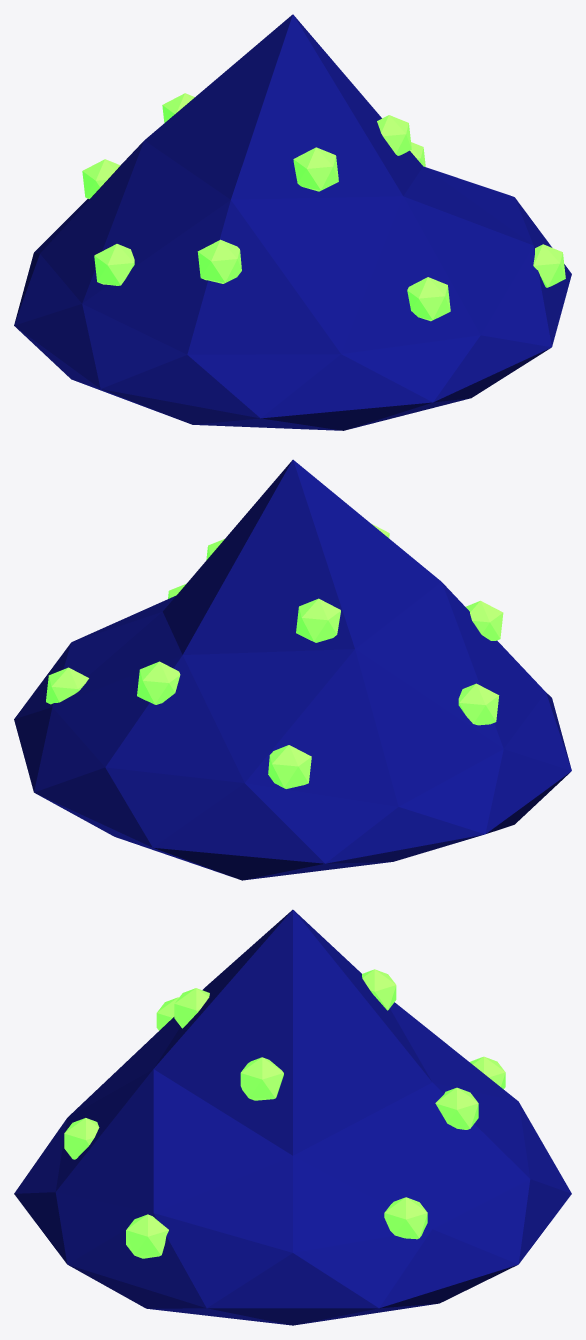
The picture shows the model from 3 angles, top to bottom: view 1: azimuth 30°, elevation 25°; view 2: azimuth 150°, elevation 25°; view 3: azimuth 270°, elevation 25°; orthographic projection.
Visible parts, largest first — view 1: cap, Icosphere, Icosphere.009, Icosphere.001, Icosphere.008, Icosphere.004, Icosphere.002, Icosphere.007; view 2: cap, Icosphere.006, Icosphere.007, Icosphere.005, Icosphere.008, Icosphere.003, Icosphere; view 3: cap, Icosphere.002, Icosphere.004, Icosphere.003, Icosphere.005, Icosphere.001, Icosphere.006, Icosphere.009, Icosphere.007.
Boxes of the visible parts, <box> form: cap: <box>14,14,571,430</box>; Icosphere: <box>197,239,241,283</box>; Icosphere.009: <box>293,147,338,191</box>; Icosphere.001: <box>407,277,450,321</box>; Icosphere.008: <box>94,244,134,285</box>; Icosphere.004: <box>533,244,565,287</box>; Icosphere.002: <box>377,115,411,155</box>; Icosphere.007: <box>82,159,120,198</box>; cap: <box>14,459,571,880</box>; Icosphere.006: <box>296,598,340,642</box>; Icosphere.007: <box>268,745,311,788</box>; Icosphere.005: <box>137,661,180,704</box>; Icosphere.008: <box>458,683,499,725</box>; Icosphere.003: <box>46,667,88,704</box>; Icosphere: <box>465,600,503,640</box>; cap: <box>14,909,571,1325</box>; Icosphere.002: <box>240,1057,283,1100</box>; Icosphere.004: <box>126,1214,168,1258</box>; Icosphere.003: <box>384,1197,427,1239</box>; Icosphere.005: <box>435,1087,478,1129</box>; Icosphere.001: <box>64,1118,99,1159</box>; Icosphere.006: <box>362,969,396,1010</box>; Icosphere.009: <box>174,988,209,1028</box>; Icosphere.007: <box>470,1056,505,1089</box>.
Bounding box in the file's own units: 0.4247 × 0.274 × 0.4374.
